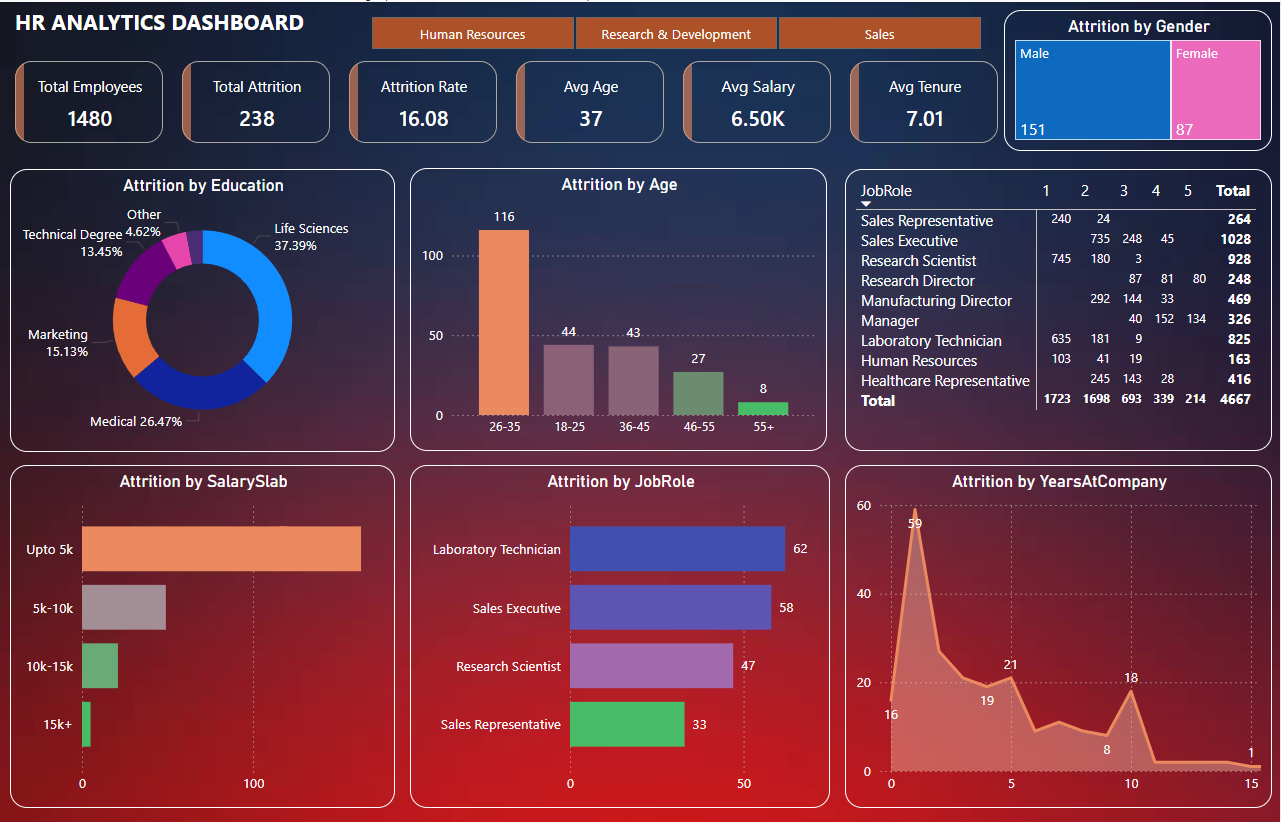

Layout of this report page (visuals, bound fields, positions):
{"tool":"powerbi","page":{"name":"Page 1","canvas":[1280,820],"ordinal":0},"visuals":[{"type":"textbox","box":[10.4,0,327,54.5],"z":0},{"type":"cardVisual","fields":{"Data":["Calculations.Total Employees","Calculations.Total Attrition","Calculations.Attrition Rate","Calculations.Avg Age","Calculations.AVG Salary","Calculations.Avg Tenure"]},"box":[10.4,54.5,993.6,92.8],"z":1},{"type":"slicer","fields":{"Values":["HR_Analytics.Department"]},"box":[345.5,8.1,658.6,46.4],"z":2},{"type":"donutChart","title":"Attrition by Education","fields":{"Category":["HR_Analytics.EducationField"],"Y":["Calculations.Total Attrition"]},"box":[10,167,385,283],"z":3},{"type":"columnChart","title":"Attrition by Age","fields":{"Y":["Calculations.Total Attrition"],"Category":["HR_Analytics.AgeGroup"]},"box":[410,166,417,283],"z":4},{"type":"barChart","title":"Attrition by SalarySlab","fields":{"Y":["Calculations.Total Attrition"],"Category":["HR_Analytics.SalarySlab"]},"box":[10,463,385,343],"z":5},{"type":"lineChart","title":"Attrition by YearsAtCompany","fields":{"Y":["Calculations.Total Attrition"],"Category":["HR_Analytics.YearsAtCompany"]},"box":[845,463,427,343],"z":6},{"type":"barChart","title":"Attrition by JobRole","fields":{"Y":["Calculations.Total Attrition"],"Category":["HR_Analytics.JobRole"]},"box":[410,463,420,343],"z":7},{"type":"pivotTable","fields":{"Rows":["HR_Analytics.JobRole"],"Columns":["HR_Analytics.JobLevel"],"Values":["Sum(HR_Analytics.PerformanceRating)"]},"box":[845,167,427,282],"z":8},{"type":"treemap","title":"Attrition by Gender","fields":{"Values":["Calculations.Total Attrition"],"Group":["HR_Analytics.Gender"]},"box":[1004.1,8.1,267.8,141.4],"z":9}]}

Visuals, with their boxes in screenshot pixels (x1, y1, x2, y2), scaled from the page's 1280x820 canvas onto the 1281x822 screenshot:
textbox: x1=10 y1=0 x2=338 y2=55
cardVisual - Calculations.Total Employees x Calculations.Total Attrition: x1=10 y1=55 x2=1005 y2=148
slicer - HR_Analytics.Department: x1=346 y1=8 x2=1005 y2=55
"Attrition by Education" donutChart: x1=10 y1=167 x2=395 y2=451
"Attrition by Age" columnChart: x1=410 y1=166 x2=828 y2=450
"Attrition by SalarySlab" barChart: x1=10 y1=464 x2=395 y2=808
"Attrition by YearsAtCompany" lineChart: x1=846 y1=464 x2=1273 y2=808
"Attrition by JobRole" barChart: x1=410 y1=464 x2=831 y2=808
pivotTable - HR_Analytics.JobRole x HR_Analytics.JobLevel: x1=846 y1=167 x2=1273 y2=450
"Attrition by Gender" treemap: x1=1005 y1=8 x2=1273 y2=150
